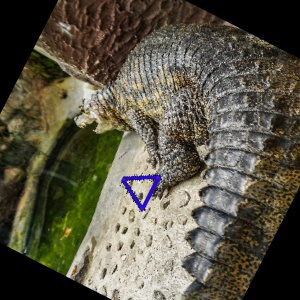triangle: (119, 170, 162, 213)
